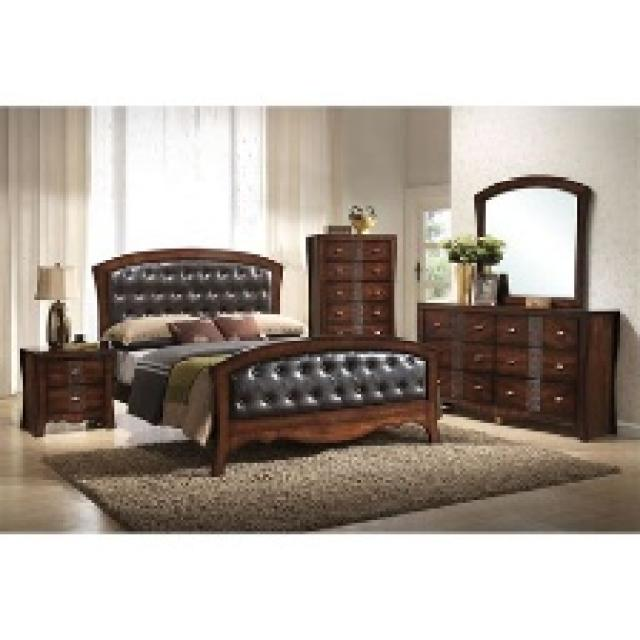Bed: (89, 246, 440, 474)
